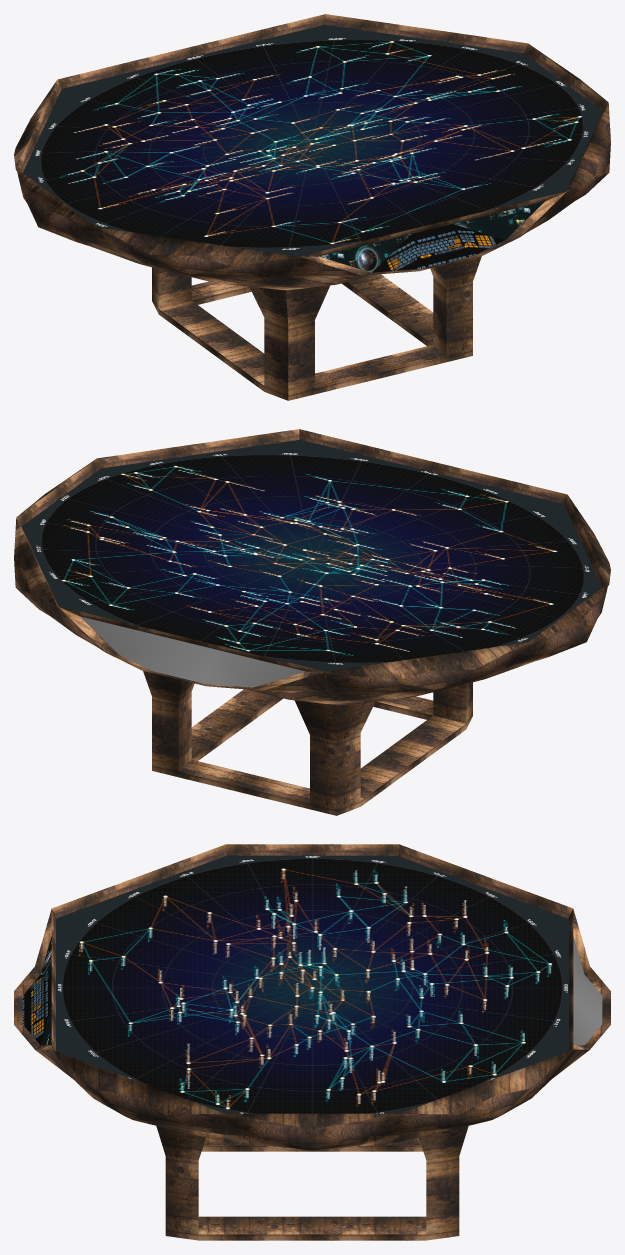
File: celestial_navigation_table.glb
3 renders of one model, top to bottom at view 1: azimuth 30°, elevation 25°; view 2: azimuth 150°, elevation 25°; view 3: azimuth 270°, elevation 25°, orthographic. The views are drawn at different scales.
Visible parts, largest first — view 1: MaterialFBXASC032FBXASC0352142172394, MaterialFBXASC032FBXASC0352142150880, MaterialFBXASC032FBXASC0352142171812, MaterialFBXASC032FBXASC0352142171094; view 2: MaterialFBXASC032FBXASC0352142172394, MaterialFBXASC032FBXASC0352142150880, MaterialFBXASC032FBXASC0352142171859, MaterialFBXASC032FBXASC0352142171324; view 3: MaterialFBXASC032FBXASC0352142172394, MaterialFBXASC032FBXASC0352142150880, MaterialFBXASC032FBXASC0352142171812, MaterialFBXASC032FBXASC0352142171859.
Boxes of the visible parts, <box> form: MaterialFBXASC032FBXASC0352142172394: <box>23,24,602,256</box>; MaterialFBXASC032FBXASC0352142150880: <box>14,14,610,400</box>; MaterialFBXASC032FBXASC0352142171812: <box>372,224,504,272</box>; MaterialFBXASC032FBXASC0352142171094: <box>319,201,544,272</box>; MaterialFBXASC032FBXASC0352142172394: <box>22,439,602,671</box>; MaterialFBXASC032FBXASC0352142150880: <box>14,429,610,815</box>; MaterialFBXASC032FBXASC0352142171859: <box>120,639,252,687</box>; MaterialFBXASC032FBXASC0352142171324: <box>80,616,305,687</box>; MaterialFBXASC032FBXASC0352142172394: <box>56,855,568,1113</box>; MaterialFBXASC032FBXASC0352142150880: <box>14,844,610,1240</box>; MaterialFBXASC032FBXASC0352142171812: <box>22,974,51,1044</box>; MaterialFBXASC032FBXASC0352142171859: <box>573,974,602,1044</box>.
Bounding box in the file's own units: 33.92 × 11.41 × 29.64.
6 materials, 4 textured.
